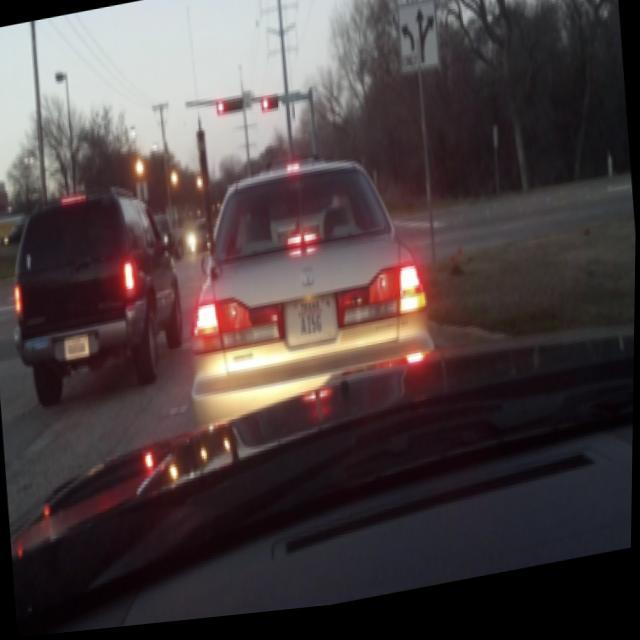license_plate: (280, 293, 340, 354)
